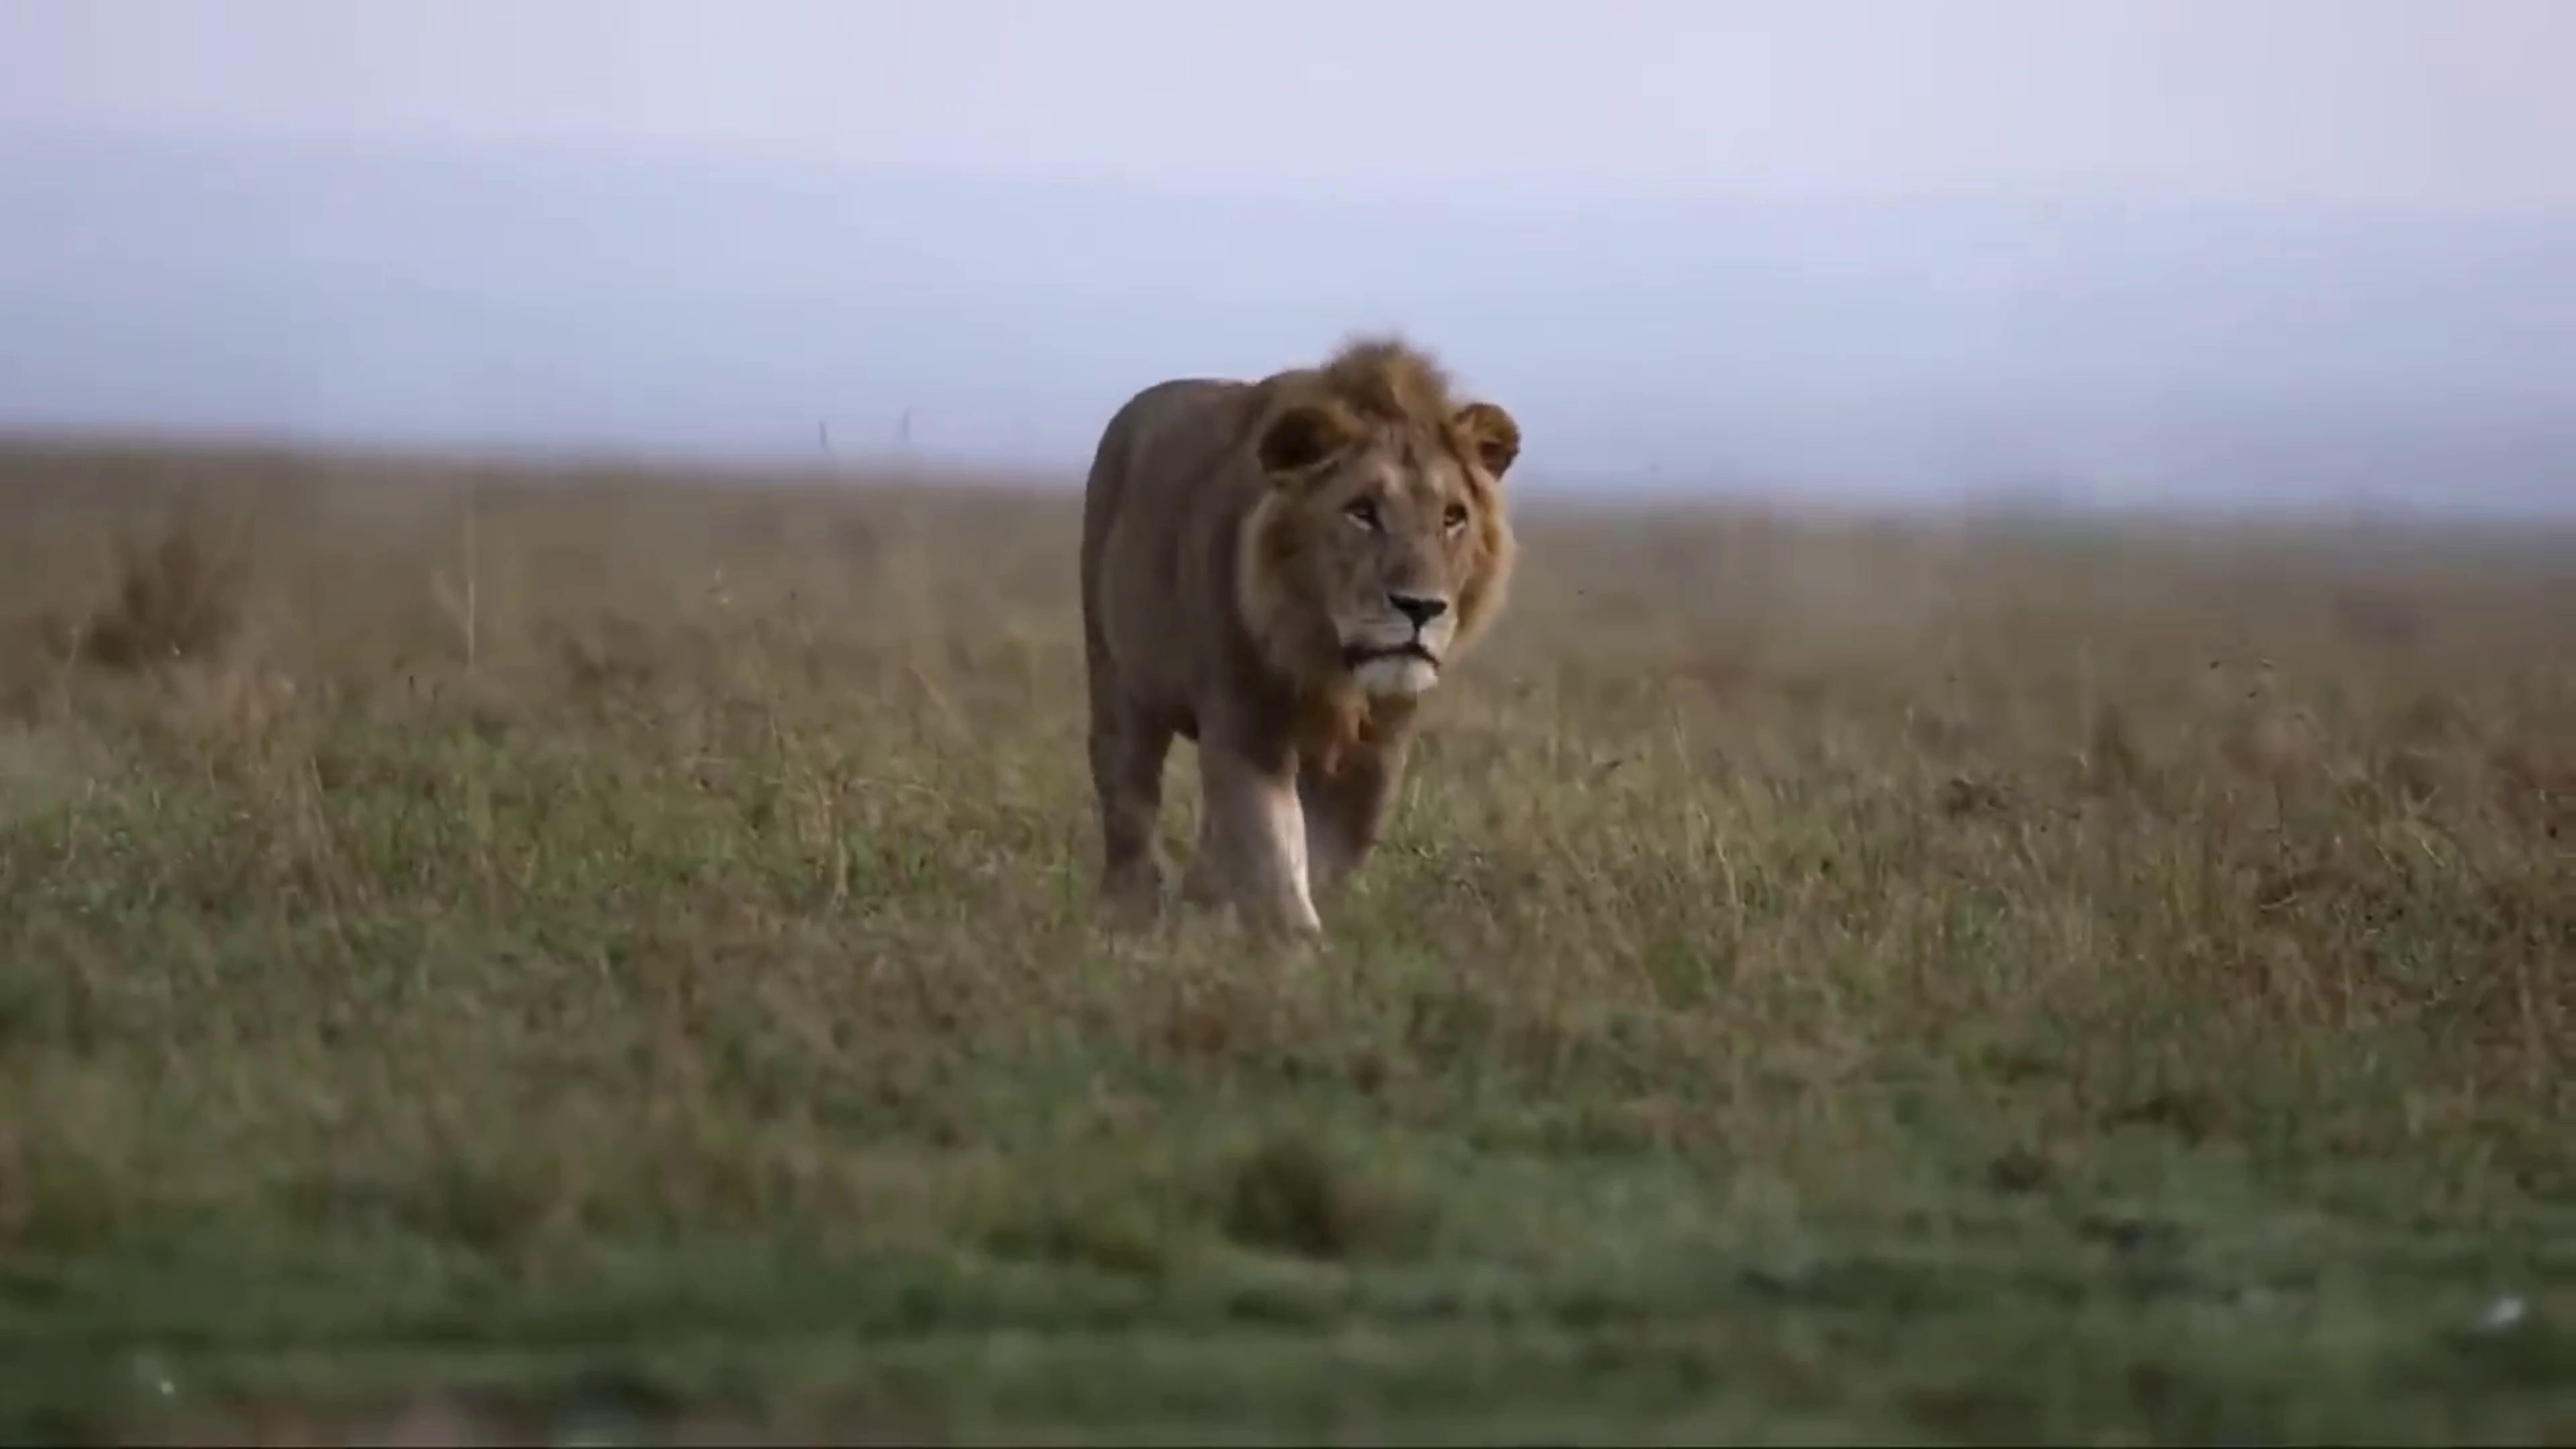Lion: (1081, 329, 1522, 955)
